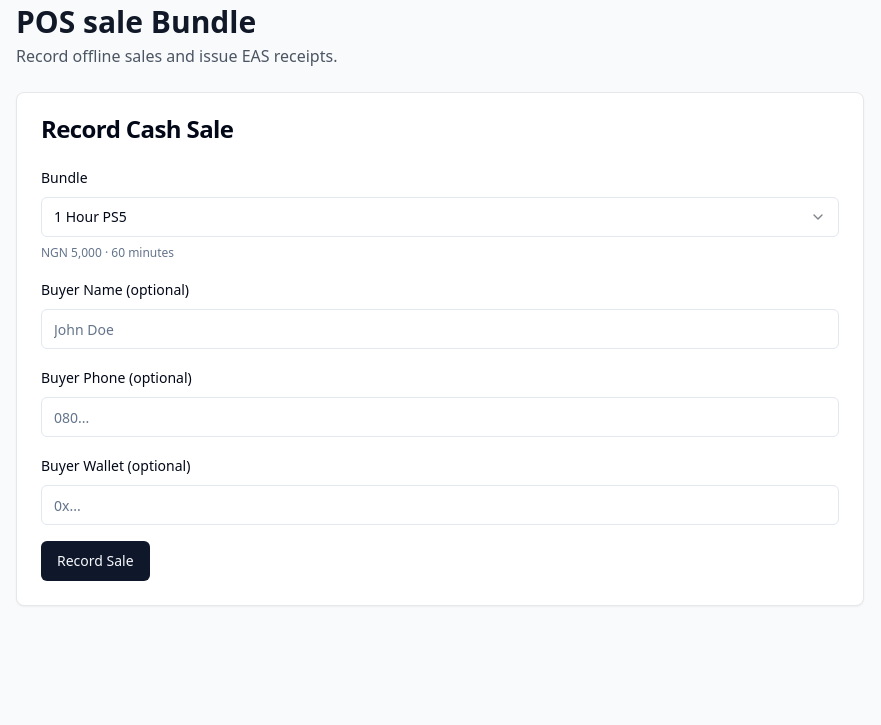
Test: GamingBundlePOS › records offline sale and shows claim code
Click the button "Record Sale": coordinates (95, 561) [41, 541, 150, 581]
(page scrolled)
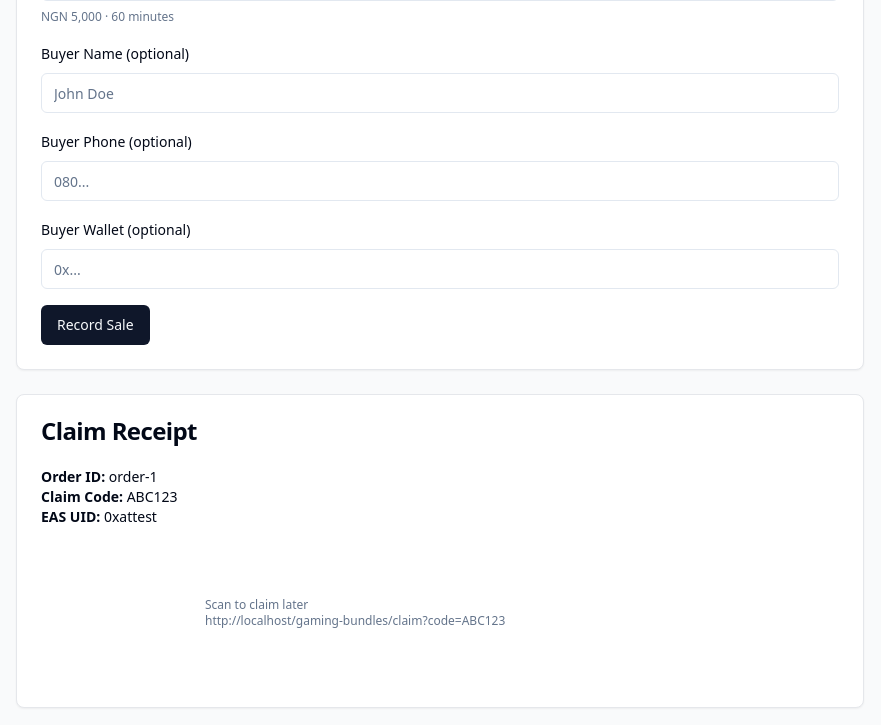
Now the text "Claim Code:" is shown, box [41, 487, 123, 506]
Now the text "ABC123" is shown, box [127, 487, 178, 506]
